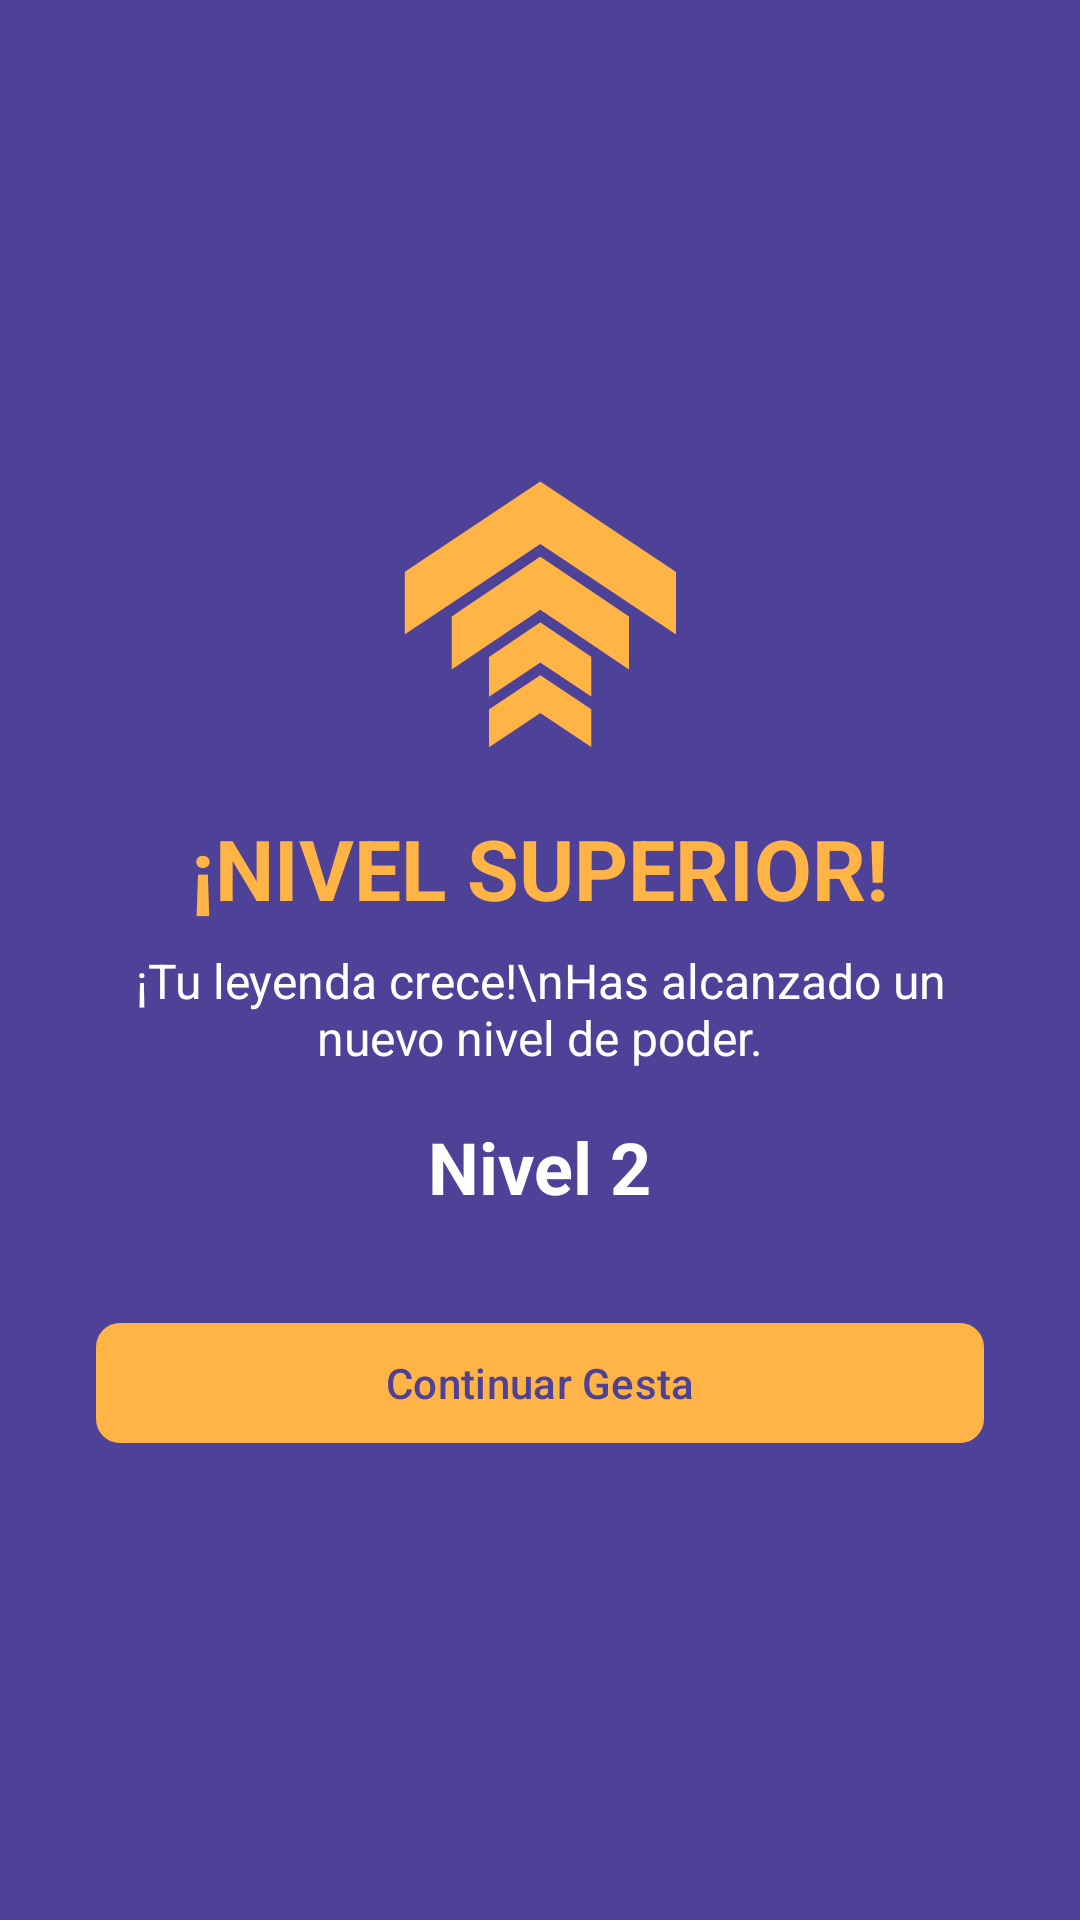

Icon bounding boxes for this 1080w x 1920h phone screenshot, format (x1, y1, x2, y2):
upgrade: (404, 481, 676, 747)
